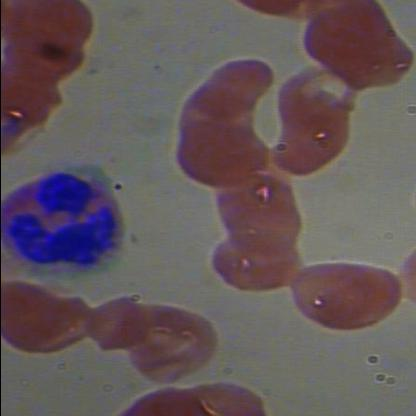RBC: (286, 253, 402, 341), (112, 298, 222, 388), (206, 223, 310, 296), (207, 199, 303, 259), (192, 58, 274, 119)
WBC: (1, 165, 120, 286)
